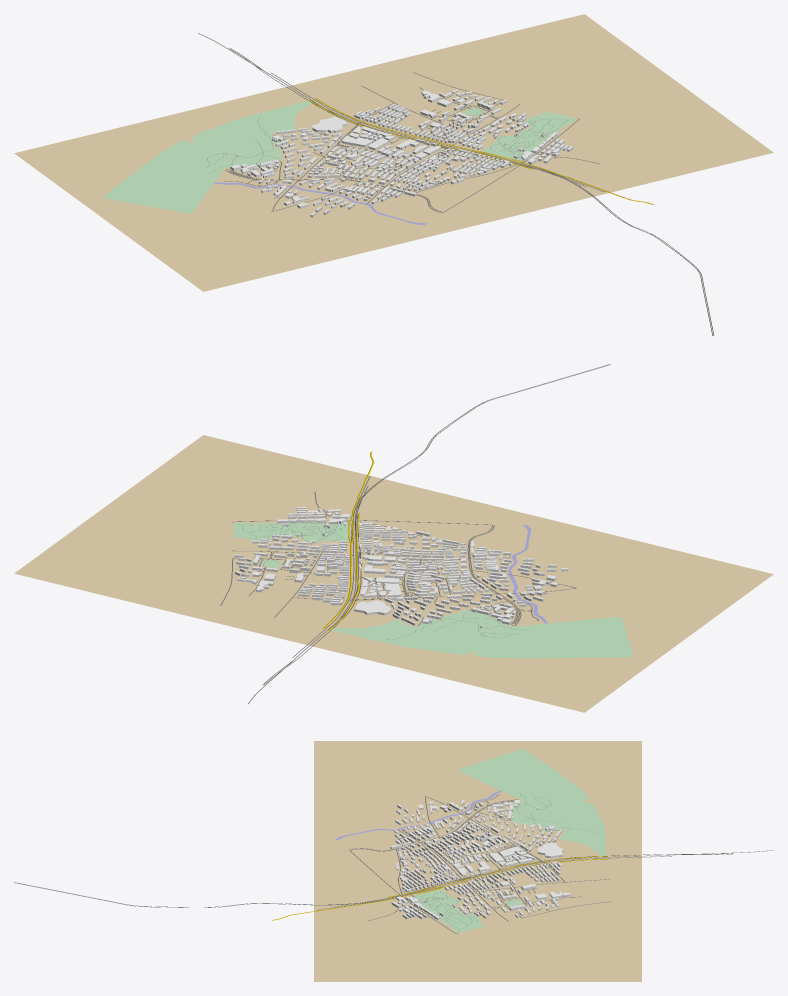
The model's file is city_model_full (1).glb.
3 views of the same model, one above another, from view 1: azimuth 30°, elevation 25°; view 2: azimuth 150°, elevation 25°; view 3: azimuth 270°, elevation 25° (orthographic). The views are drawn at different scales.
Parts seen in each view (by area): view 1: CityModel, Nature_666304555, Nature_51051529; view 2: CityModel, Nature_666304555, Nature_51051529; view 3: CityModel, Nature_666304555, Nature_51051529, Road_1119656132, Road_1119656133, Road_163764181.
Part boxes in pixels (left/top/right/bottom): CityModel: left=14, top=14, right=773, bottom=291; Nature_666304555: left=102, top=100, right=311, bottom=213; Nature_51051529: left=483, top=111, right=576, bottom=161; CityModel: left=14, top=435, right=773, bottom=712; Nature_666304555: left=331, top=610, right=633, bottom=658; Nature_51051529: left=233, top=521, right=348, bottom=542; CityModel: left=314, top=741, right=641, bottom=981; Nature_666304555: left=458, top=749, right=606, bottom=856; Nature_51051529: left=409, top=889, right=484, bottom=933; Road_1119656132: left=15, top=853, right=732, bottom=907; Road_1119656133: left=14, top=854, right=732, bottom=907; Road_163764181: left=334, top=850, right=773, bottom=906.
Bounding box in the file's own units: 200 × 1.3 × 267.
